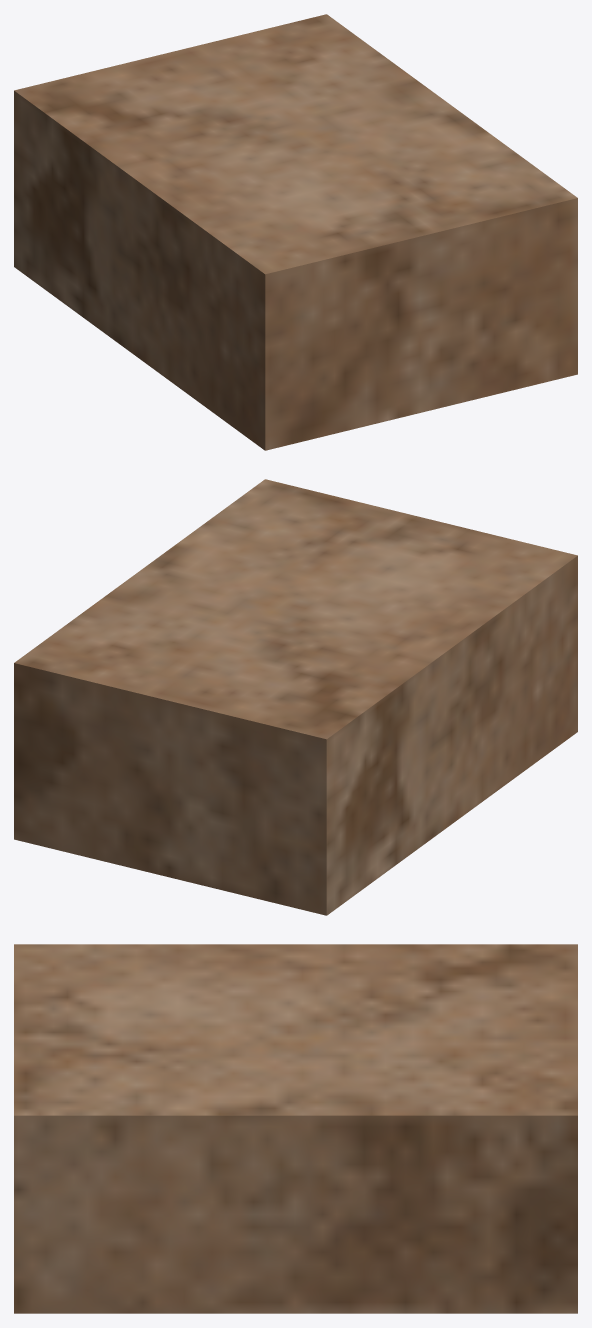
File: Brick Temple.fbx
3 views of the same model, one above another, from view 1: azimuth 30°, elevation 25°; view 2: azimuth 150°, elevation 25°; view 3: azimuth 270°, elevation 25° (orthographic). The views are drawn at different scales.
Parts seen in each view (by area): view 1: Cube; view 2: Cube; view 3: Cube.
Part boxes in pixels (x1,y1,x2,y2): Cube: (14, 14, 577, 450); Cube: (14, 479, 577, 915); Cube: (14, 944, 577, 1313).
Size of the model in its own units: 44.81 by 24.15 by 62.32.
